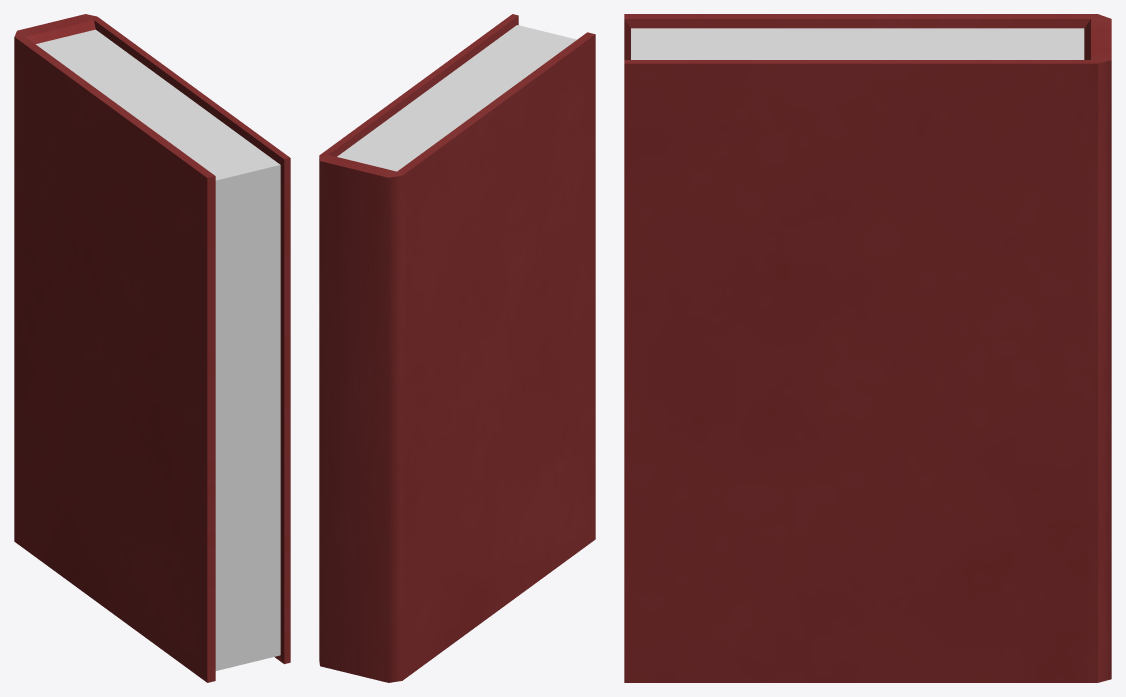
The model's file is LibroRojoGrande.fbx.
The picture shows the model from 3 angles, left to right: view 1: azimuth 30°, elevation 25°; view 2: azimuth 150°, elevation 25°; view 3: azimuth 270°, elevation 25°; orthographic projection. The views are drawn at different scales.
Parts seen in each view (by area): view 1: LibroRojo_Grande; view 2: LibroRojo_Grande; view 3: LibroRojo_Grande.
Part boxes in pixels (bbox=[...]): LibroRojo_Grande: bbox=[14, 14, 290, 682]; LibroRojo_Grande: bbox=[319, 14, 595, 682]; LibroRojo_Grande: bbox=[624, 14, 1111, 682].
Bounding box in the file's own units: 0.1779 × 1.03 × 0.7372.
Materials: 2 (1 with a texture image).
